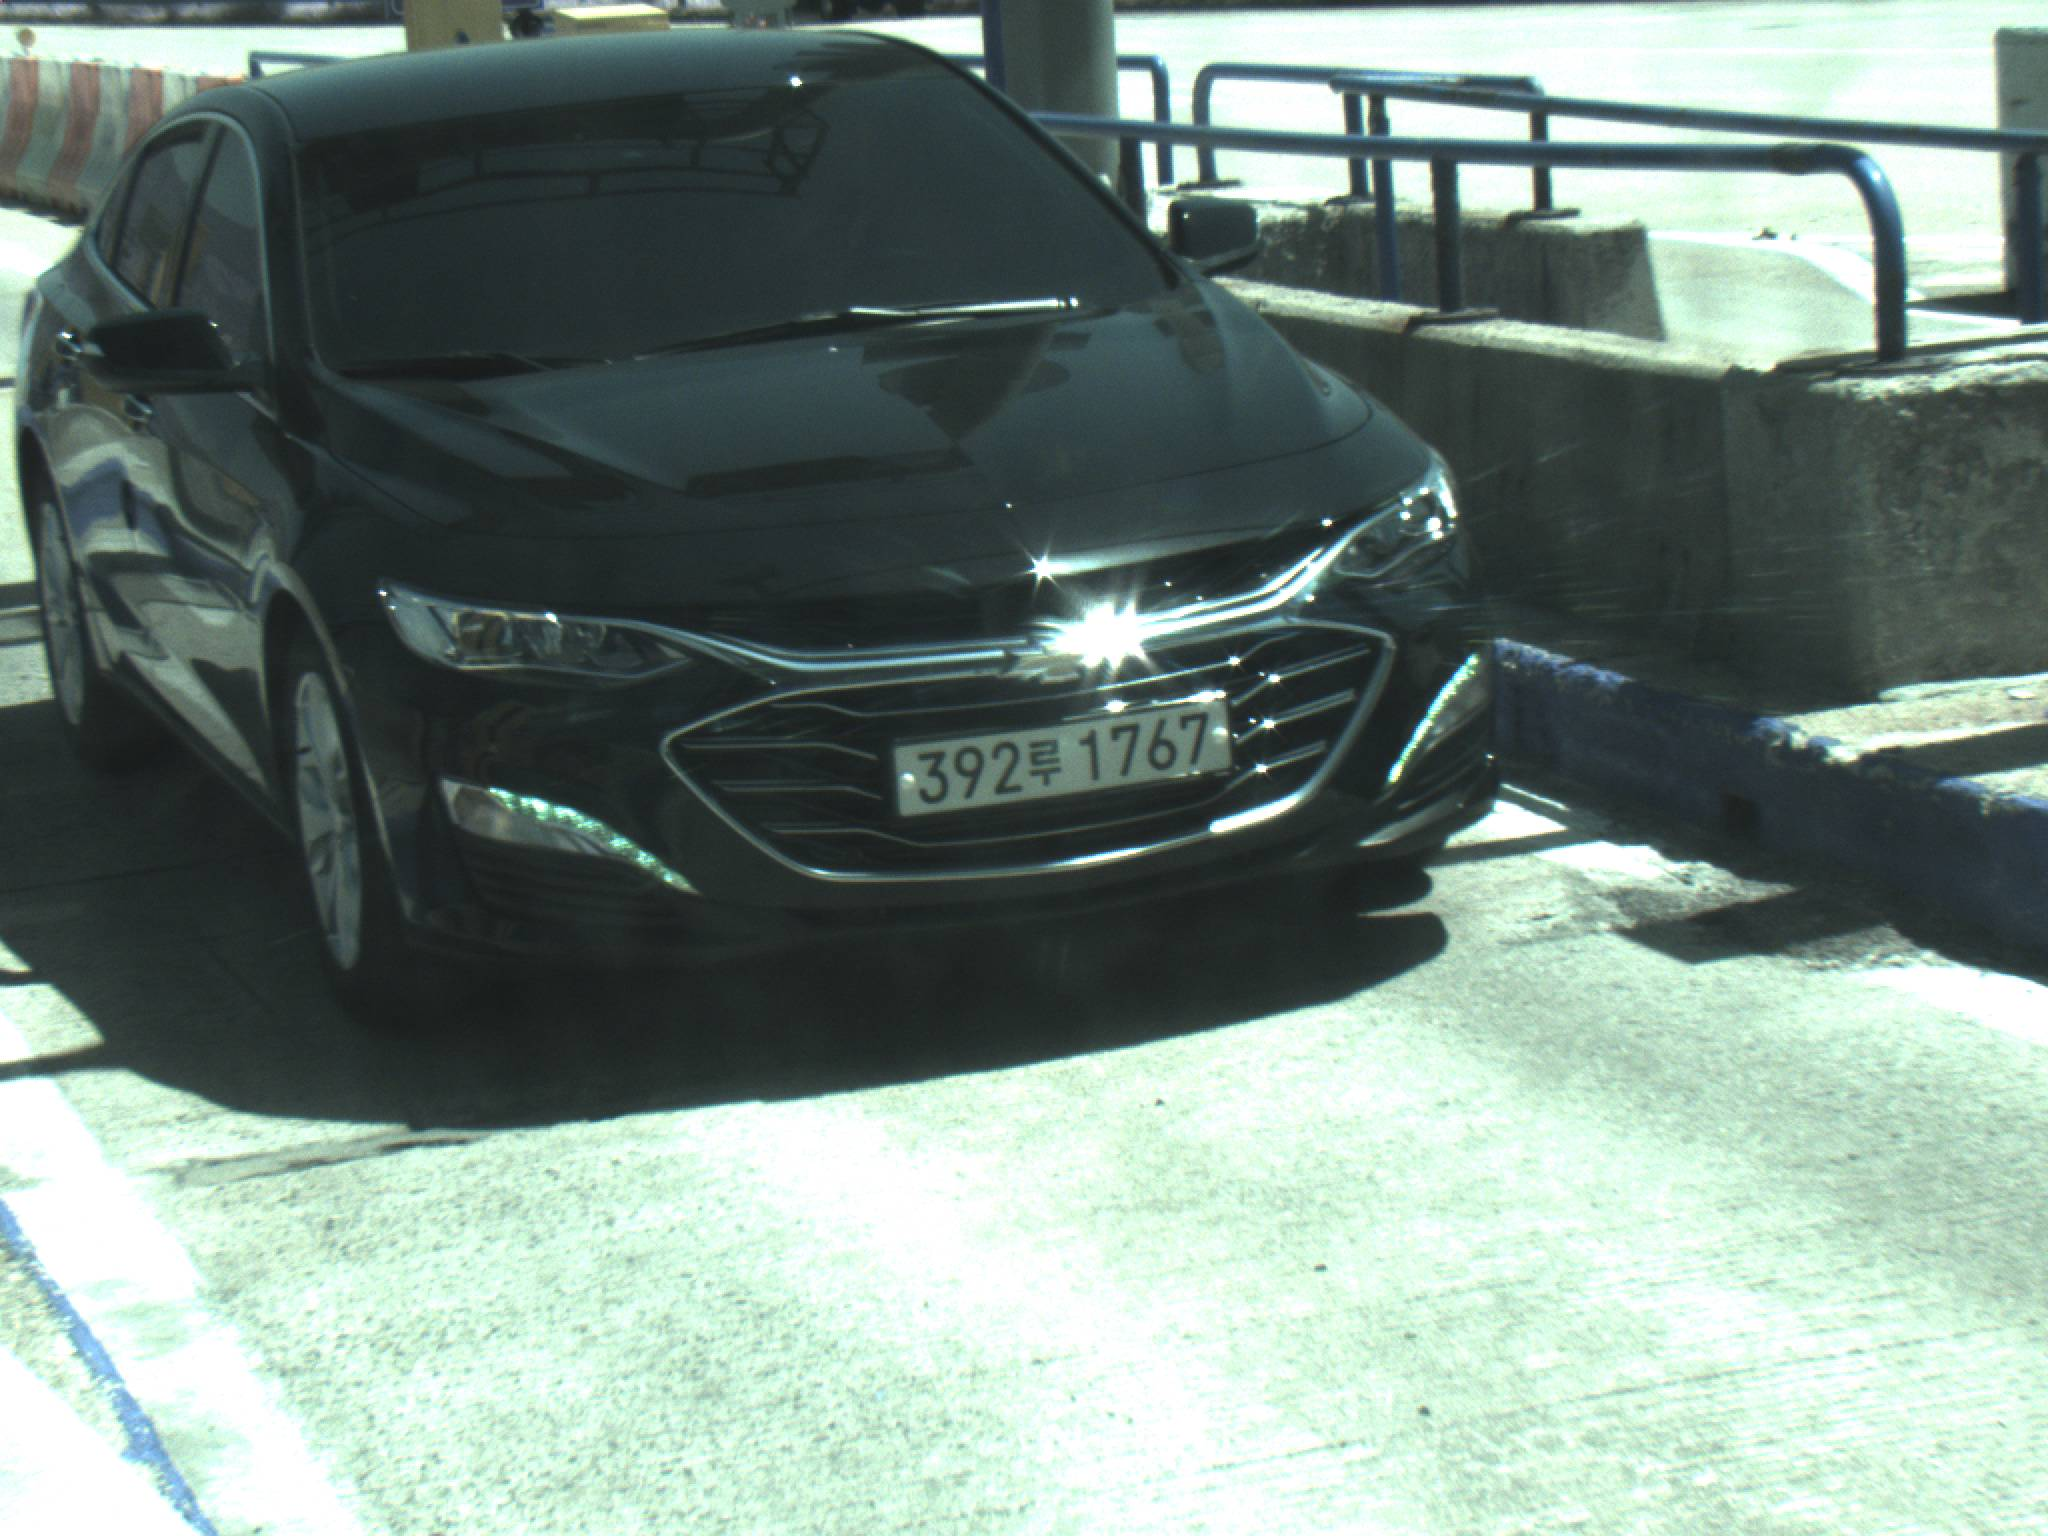car: (10, 19, 1512, 1038)
plate: (884, 696, 1240, 823)
